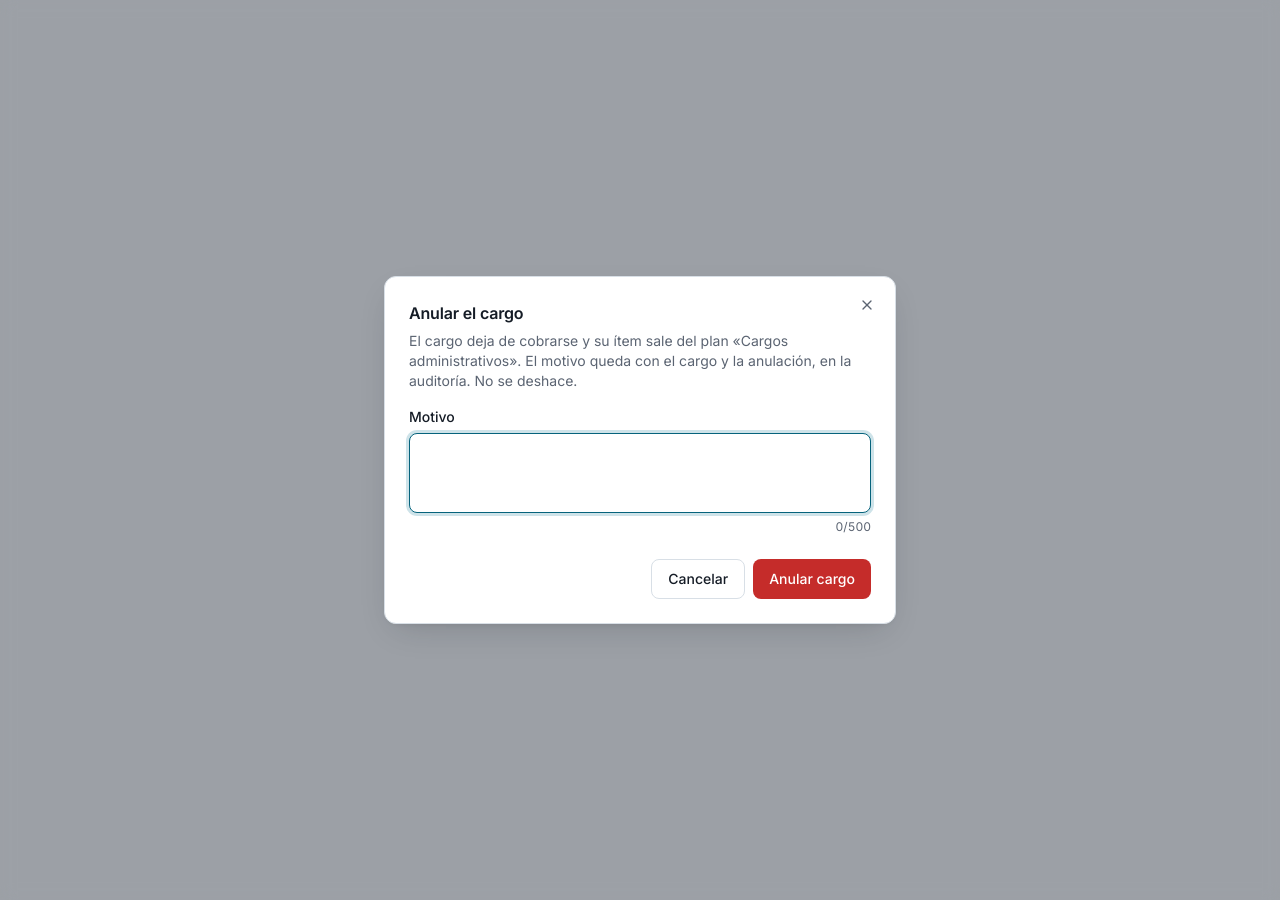
Test case: VoidCancellationFeeModal — 409 del servidor (DX-382) › el 409 «ya cobrado» también llega con su texto
Type " Cargo por error " into the text box labelled "Motivo" at point(640, 473), box [409,433,871,513]
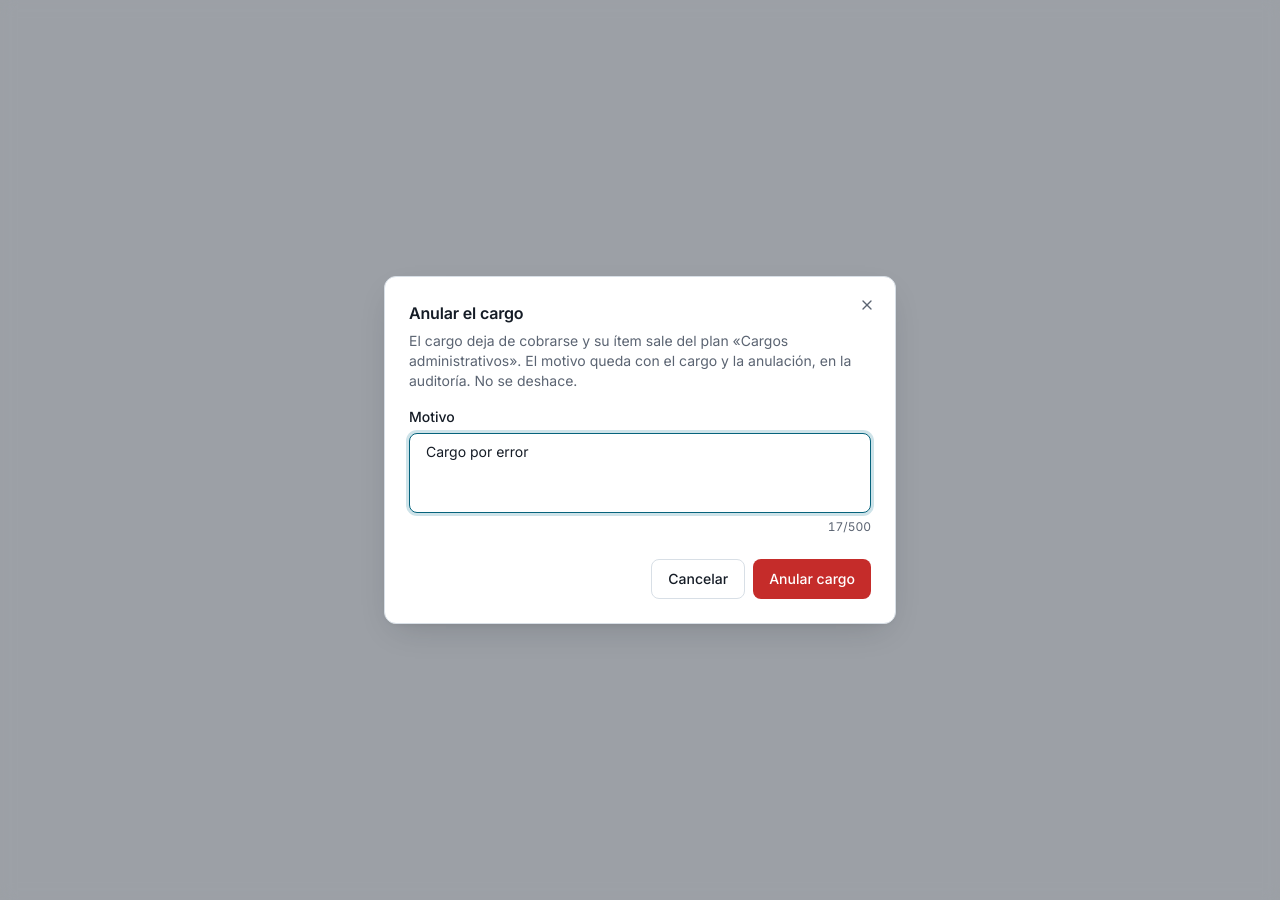
Click the button "Anular cargo" at point(812, 579), box [753,559,871,599]
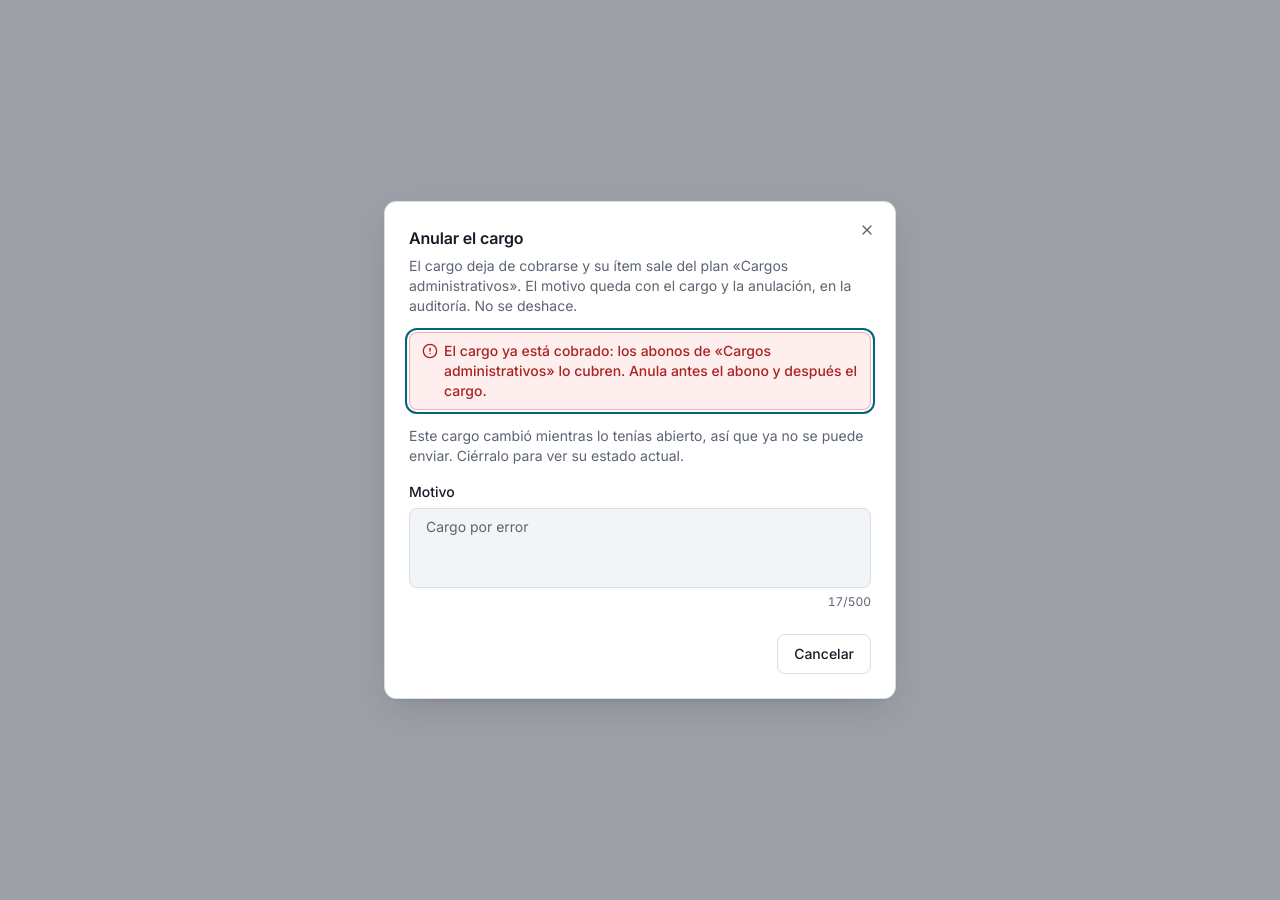
Check: the 1st message shows "El cargo ya está cobrado: los abonos de «Cargos administrativos» lo cubren. Anula antes el abono y después el cargo.", box [444,342,857,399]
